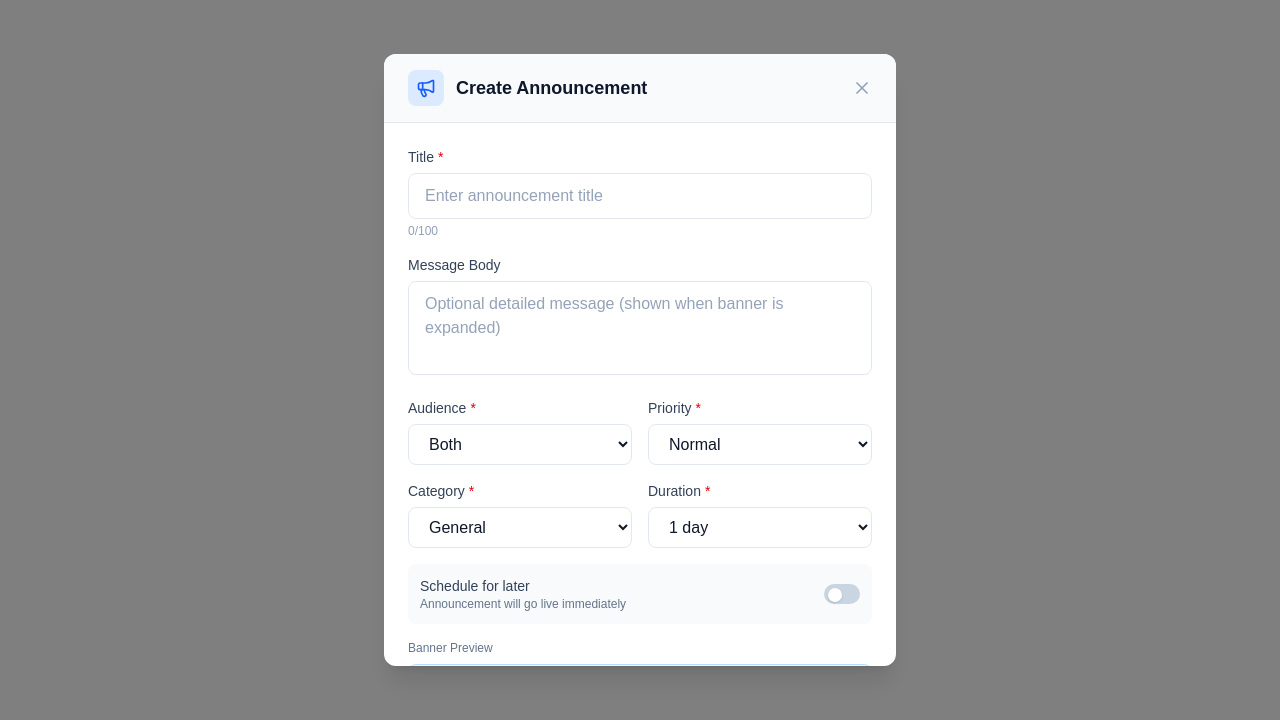
CreateAnnouncementDialog › create mode › shows character count for title
Check: the text "0/100" is shown, box [408,224,438,238]
Type "Test" into the field with placeholder "Enter announcement title" at (640, 196), box [408,173,872,219]
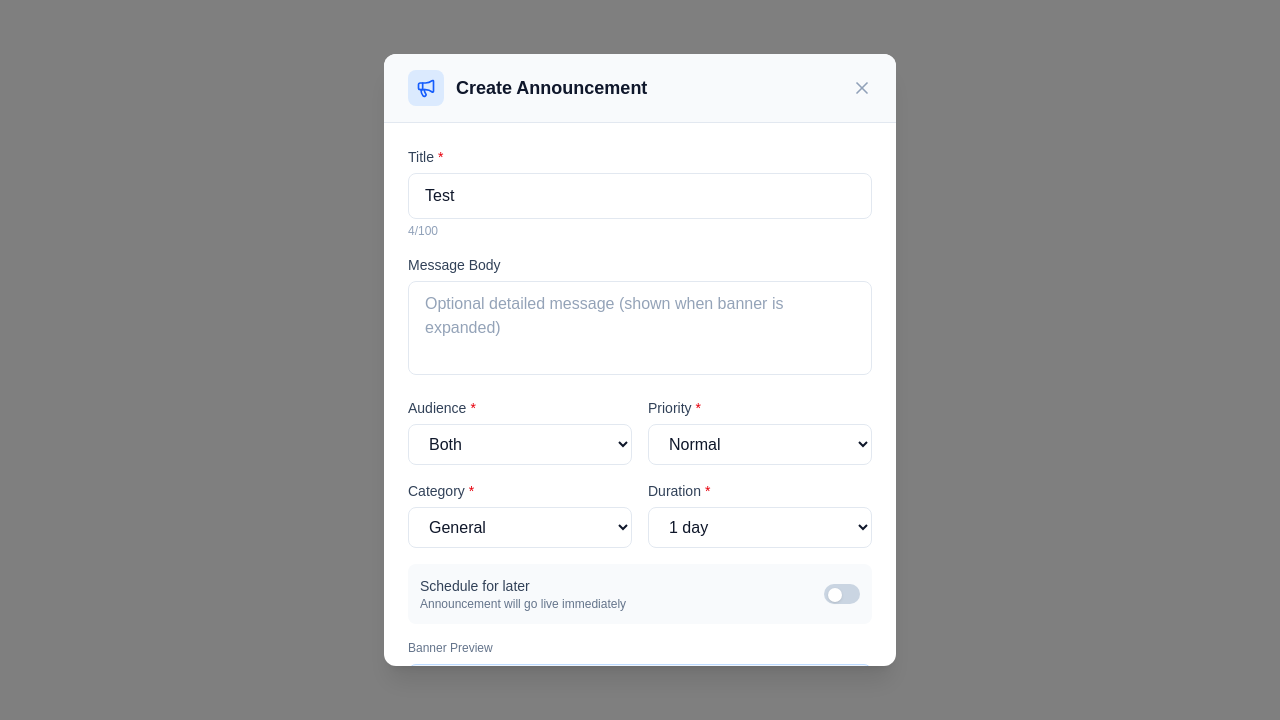
Check: the text "4/100" is shown, box [408,224,438,238]
